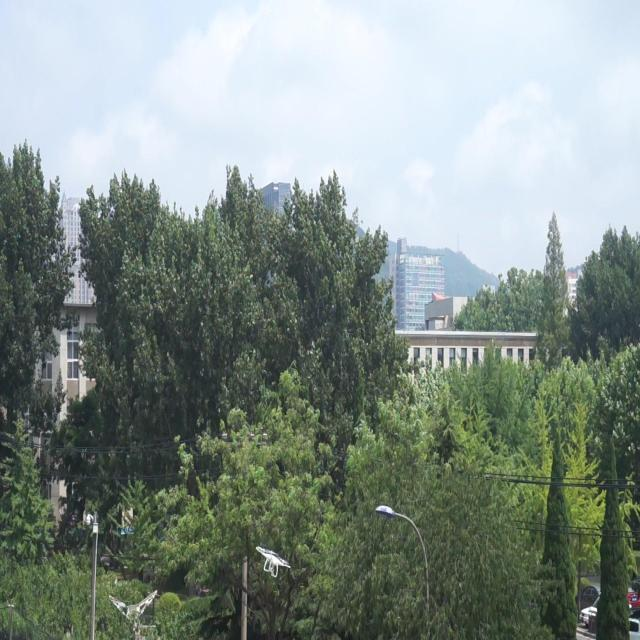drone: (255, 541, 291, 581)
